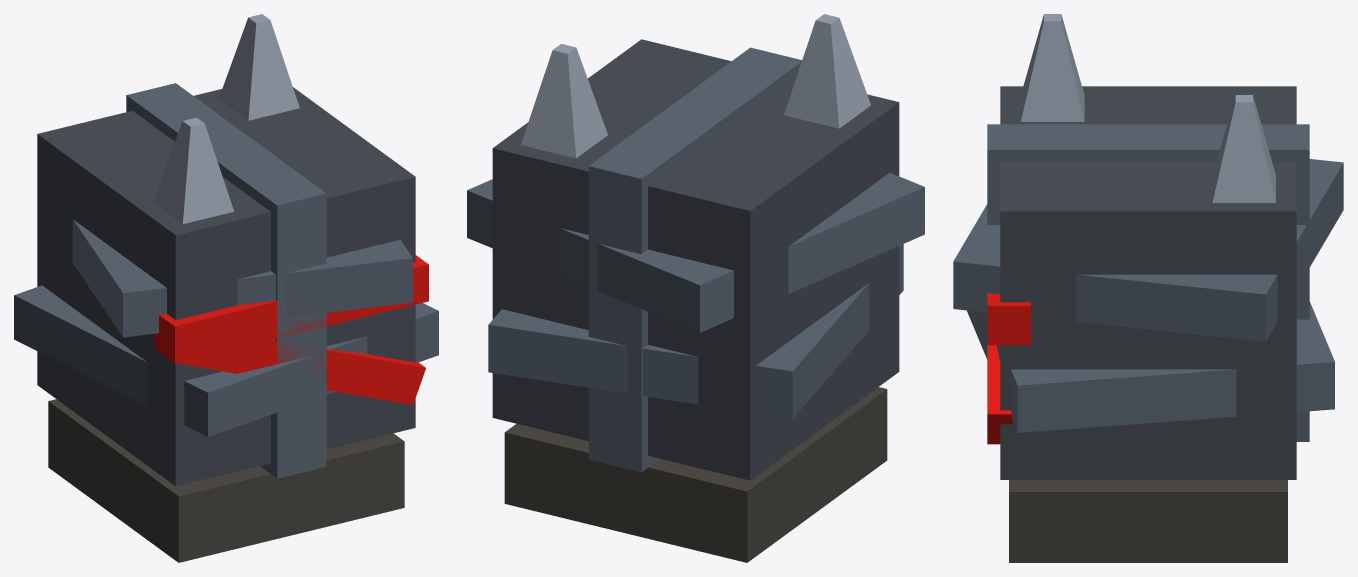
The model's file is FuriaContenida_low.fbx.
The picture shows the model from 3 angles, left to right: view 1: azimuth 30°, elevation 25°; view 2: azimuth 150°, elevation 25°; view 3: azimuth 270°, elevation 25°; orthographic projection. The views are drawn at different scales.
Parts seen in each view (by area): view 1: FuriaContenida_low; view 2: FuriaContenida_low; view 3: FuriaContenida_low.
Boxes of the visible parts, x1,y1,x2,y2 form: FuriaContenida_low: (14,14,438,562); FuriaContenida_low: (467,14,924,562); FuriaContenida_low: (953,14,1343,562).
Bounding box in the file's own units: 44.85 × 56.5 × 44.85.
